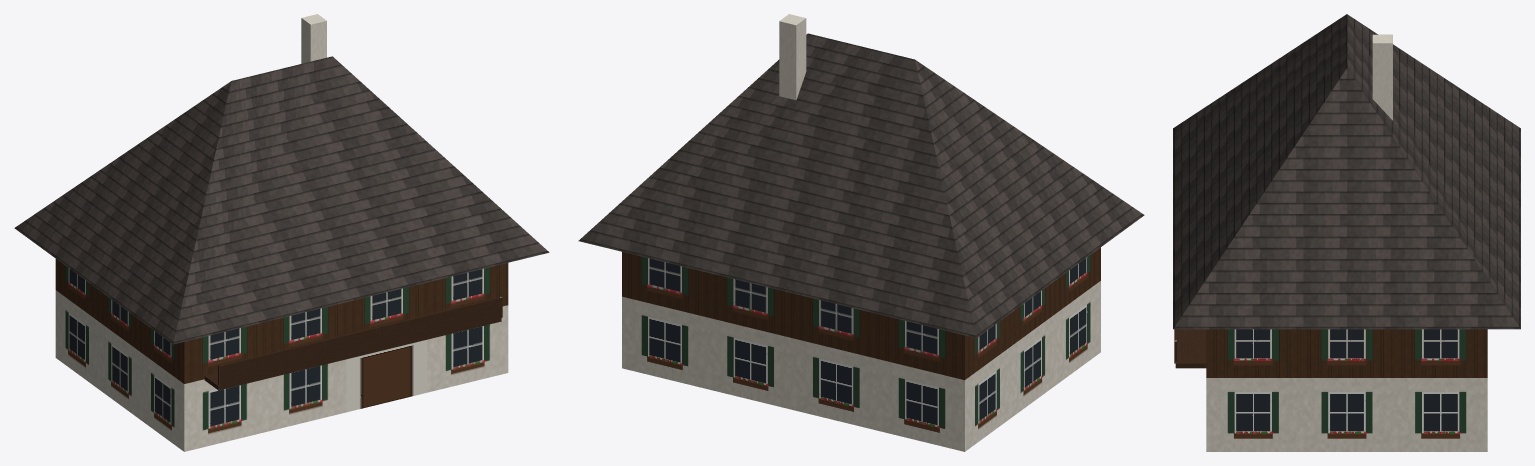
File: SM_hotel.fbx
3 renders of one model, left to right at view 1: azimuth 30°, elevation 25°; view 2: azimuth 150°, elevation 25°; view 3: azimuth 270°, elevation 25°, orthographic. The views are drawn at different scales.
Visible parts, largest first — view 1: SM_hotel; view 2: SM_hotel; view 3: SM_hotel.
Part boxes in pixels (<box>): SM_hotel: <box>14,14,549,451</box>; SM_hotel: <box>578,14,1144,451</box>; SM_hotel: <box>1173,14,1520,451</box>.
Size of the model in its own units: 18.6 by 15.2 by 13.6.
